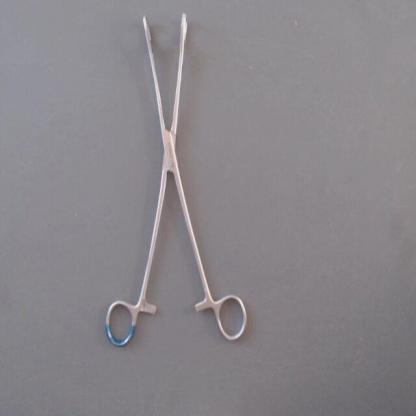Sponge Forceps: (100, 2, 256, 356)
